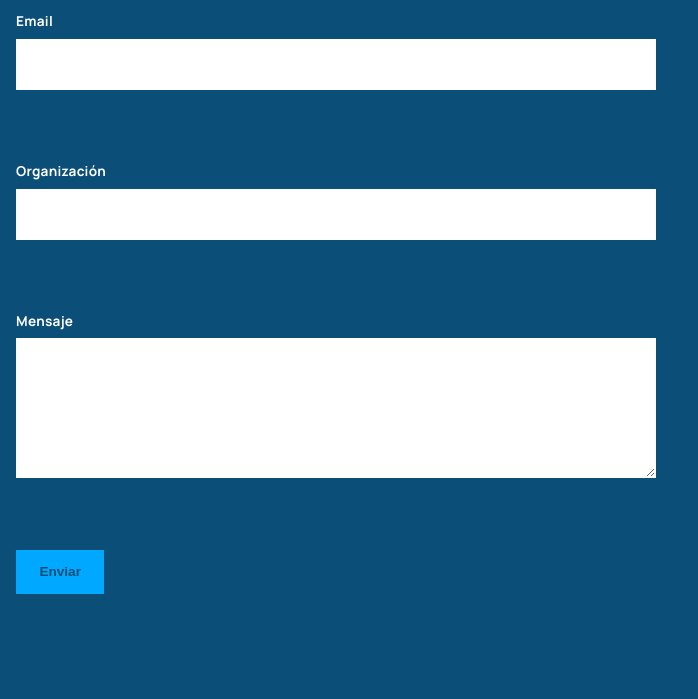
Test case: blocks submit when required fields are empty
(page scrolled)
Click the button "Enviar". click: (60, 572)
box: top-left (16, 550), bottom-right (104, 594)
(page scrolled)
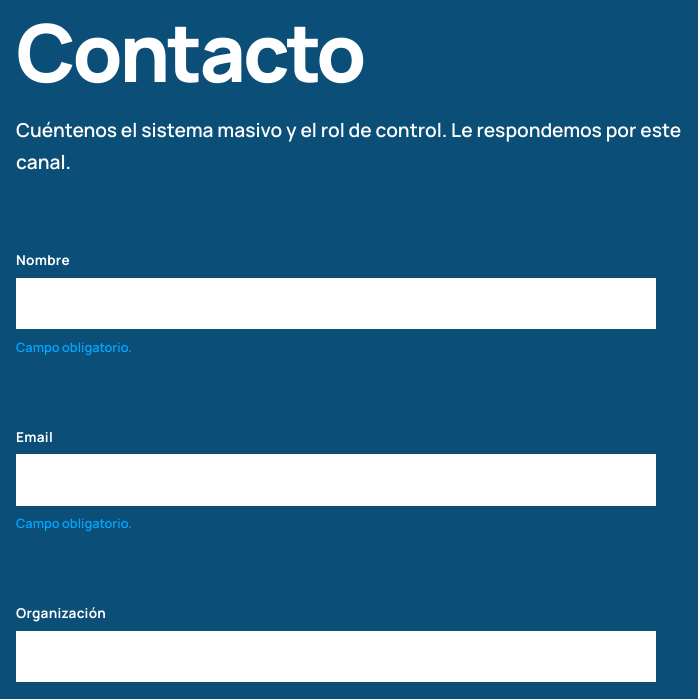
Expected: the text "Campo obligatorio." below "Nombre" is shown, top-left (16, 338), bottom-right (132, 356)
